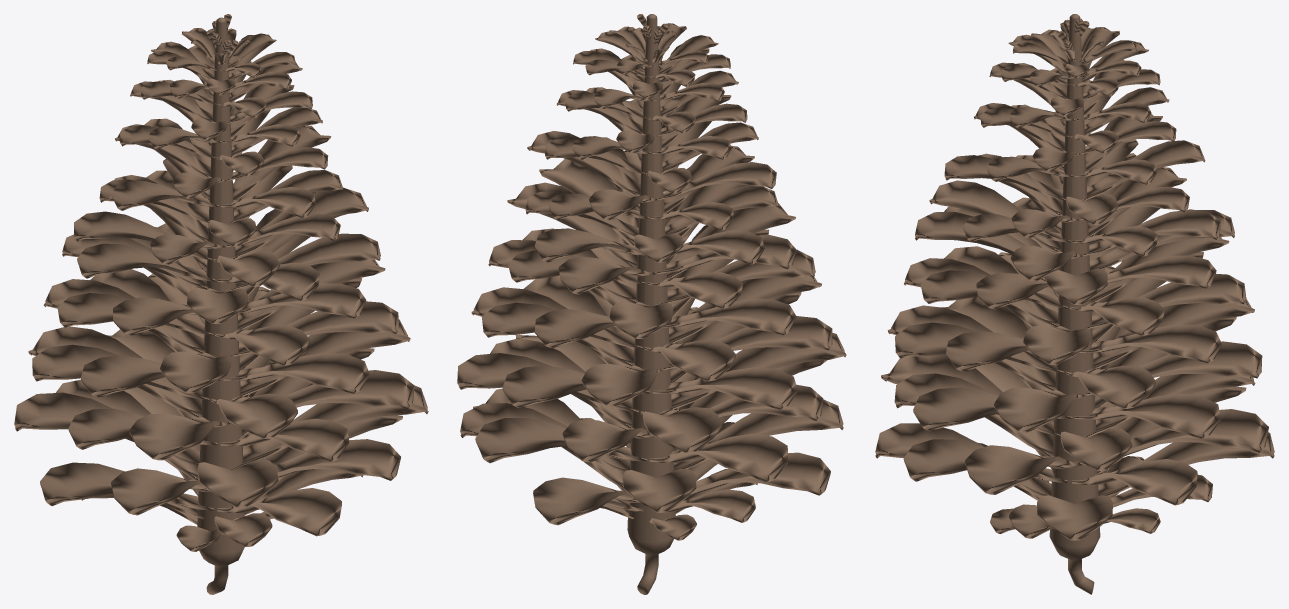
Rendered from PineCone 1.fbx.
The picture shows the model from 3 angles, left to right: view 1: azimuth 30°, elevation 25°; view 2: azimuth 150°, elevation 25°; view 3: azimuth 270°, elevation 25°; orthographic projection.
Visible parts, largest first — view 1: Plane; view 2: Plane; view 3: Plane.
Boxes of the visible parts, x1,y1,x2,y2 form: Plane: (14,14,428,594); Plane: (457,14,846,594); Plane: (875,14,1274,594).
Bounding box in the file's own units: 458 × 735 × 458.
